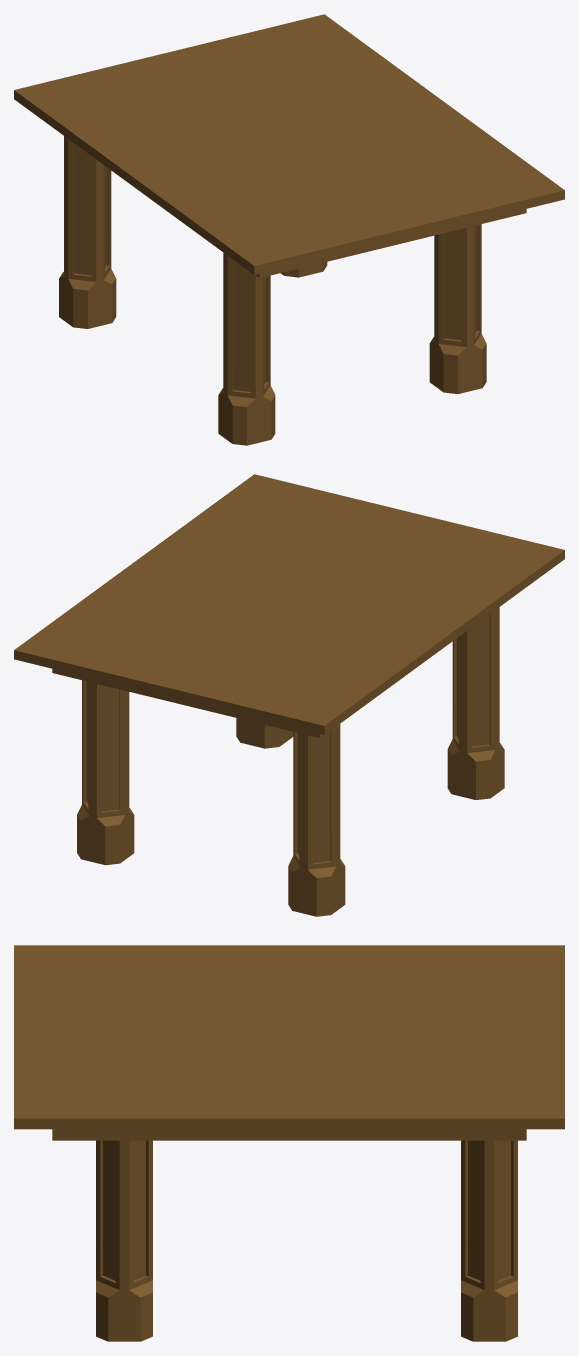
File: Table.fbx
3 renders of one model, top to bottom at view 1: azimuth 30°, elevation 25°; view 2: azimuth 150°, elevation 25°; view 3: azimuth 270°, elevation 25°, orthographic. The views are drawn at different scales.
Parts seen in each view (by area): view 1: Cube.013; view 2: Cube.013; view 3: Cube.013.
Part boxes in pixels (x1,y1,x2,y2): Cube.013: [14, 14, 564, 445]; Cube.013: [14, 474, 564, 916]; Cube.013: [14, 945, 564, 1341].
Size of the model in its own units: 181 by 118 by 242.
